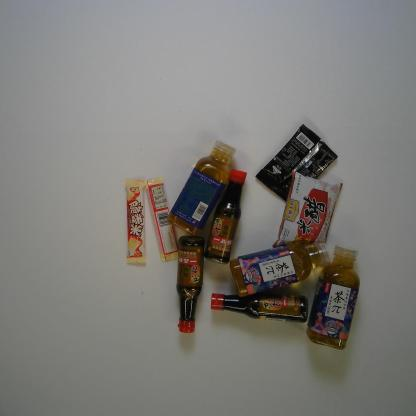Chocolate: (144, 176, 179, 264), (124, 178, 147, 266)
Drink: (167, 138, 238, 236), (305, 243, 361, 351), (229, 240, 331, 297)
Instant Drink: (254, 122, 338, 202)
Seasoner: (271, 169, 344, 249), (203, 168, 247, 265), (209, 292, 309, 324), (175, 235, 206, 334)
